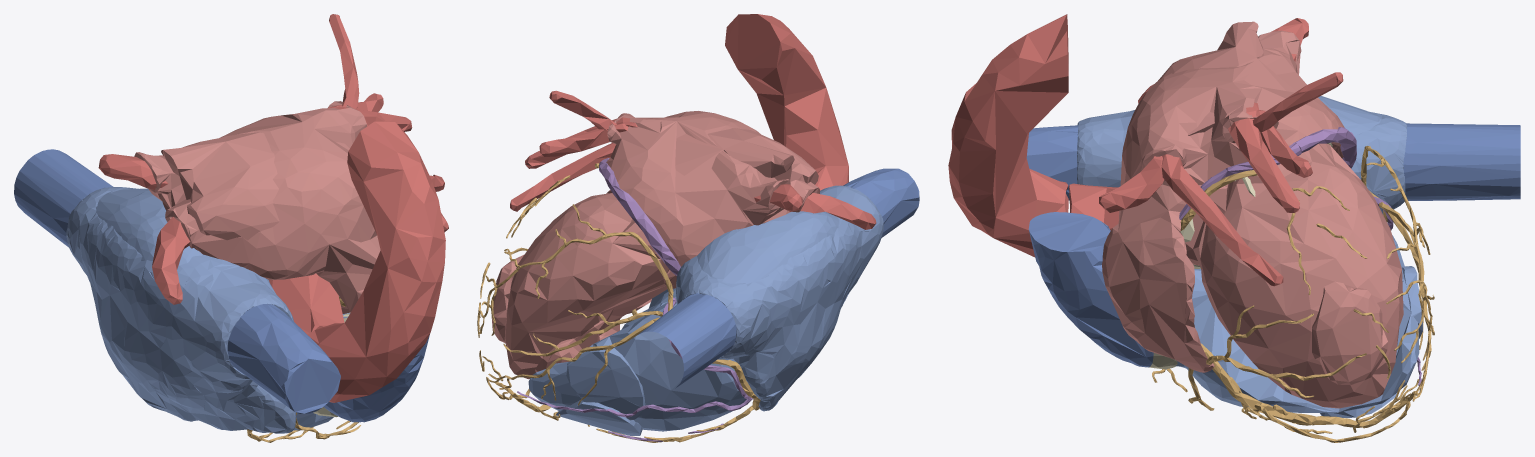
Rendered from heart_low.glb.
3 views of the same model, side by side, from view 1: azimuth 30°, elevation 25°; view 2: azimuth 150°, elevation 25°; view 3: azimuth 270°, elevation 25° (orthographic). The views are drawn at different scales.
Parts seen in each view (by area): view 1: left_atrium, right_atrium, aorta, superior_vena_cava, pulmonary_veins, inferior_vena_cava, pulmonary_artery, coronary_arteries, right_ventricle; view 2: right_atrium, left_atrium, left_ventricle, right_ventricle, aorta, coronary_arteries, pulmonary_veins, inferior_vena_cava, cardiac_veins, superior_vena_cava; view 3: left_ventricle, left_atrium, aorta, pulmonary_veins, coronary_arteries, inferior_vena_cava, pulmonary_artery, right_ventricle, right_atrium, superior_vena_cava, cardiac_veins.
Boxes of the visible parts, x1=… form: left_atrium: x1=134, y1=101, x2=380, y2=312; right_atrium: x1=66, y1=187, x2=295, y2=433; aorta: x1=269, y1=121, x2=445, y2=402; superior_vena_cava: x1=227, y1=304, x2=340, y2=413; pulmonary_veins: x1=98, y1=14, x2=448, y2=304; inferior_vena_cava: x1=14, y1=149, x2=113, y2=247; pulmonary_artery: x1=323, y1=334, x2=429, y2=422; coronary_arteries: x1=247, y1=297, x2=360, y2=442; right_ventricle: x1=294, y1=313, x2=350, y2=430; right_atrium: x1=676, y1=185, x2=883, y2=411; left_atrium: x1=606, y1=111, x2=819, y2=313; left_ventricle: x1=491, y1=193, x2=676, y2=379; right_ventricle: x1=528, y1=288, x2=747, y2=435; aorta: x1=725, y1=14, x2=848, y2=190; coronary_arteries: x1=477, y1=163, x2=760, y2=442; pulmonary_veins: x1=510, y1=90, x2=876, y2=229; inferior_vena_cava: x1=638, y1=293, x2=736, y2=388; cardiac_veins: x1=517, y1=158, x2=754, y2=441; superior_vena_cava: x1=843, y1=168, x2=919, y2=237; left_ventricle: x1=1185, y1=143, x2=1403, y2=408; left_atrium: x1=1102, y1=21, x2=1344, y2=372; aorta: x1=948, y1=14, x2=1119, y2=257; pulmonary_veins: x1=1099, y1=18, x2=1343, y2=286; coronary_arteries: x1=1152, y1=145, x2=1434, y2=442; inferior_vena_cava: x1=1403, y1=123, x2=1520, y2=200; pulmonary_artery: x1=1028, y1=212, x2=1153, y2=367; right_ventricle: x1=1176, y1=235, x2=1422, y2=417; right_atrium: x1=1077, y1=96, x2=1406, y2=214; superior_vena_cava: x1=1026, y1=125, x2=1078, y2=200; cardiac_veins: x1=1179, y1=127, x2=1421, y2=385.
Bounding box in the file's own units: 119 × 127 × 167.
